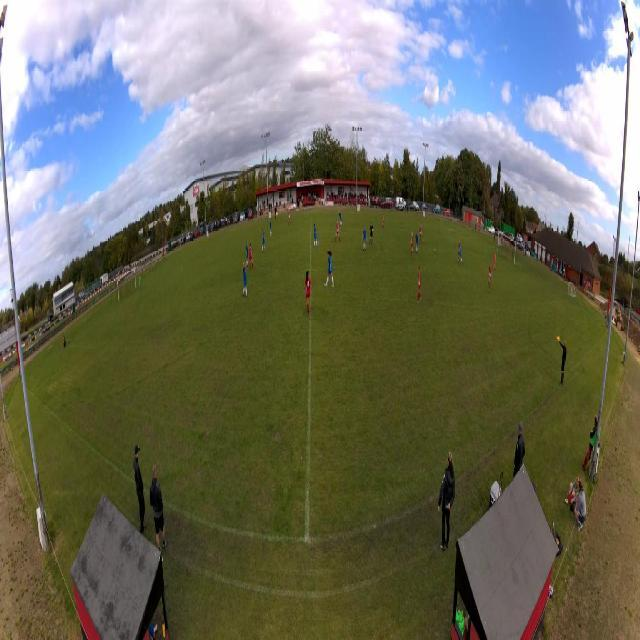ball: (434, 248, 436, 253)
player: (324, 249, 335, 289), (303, 270, 312, 315), (333, 219, 341, 244), (417, 265, 422, 305), (243, 262, 248, 299), (248, 241, 254, 271), (362, 225, 367, 252), (262, 227, 267, 253), (313, 222, 318, 248), (369, 221, 374, 247), (245, 240, 249, 268), (488, 262, 492, 289), (410, 231, 414, 257), (338, 209, 343, 229), (459, 242, 463, 267), (458, 239, 461, 265), (288, 210, 292, 228), (415, 230, 418, 254), (493, 251, 496, 272), (269, 219, 272, 238), (419, 224, 422, 243), (139, 273, 142, 292), (382, 213, 385, 231)
